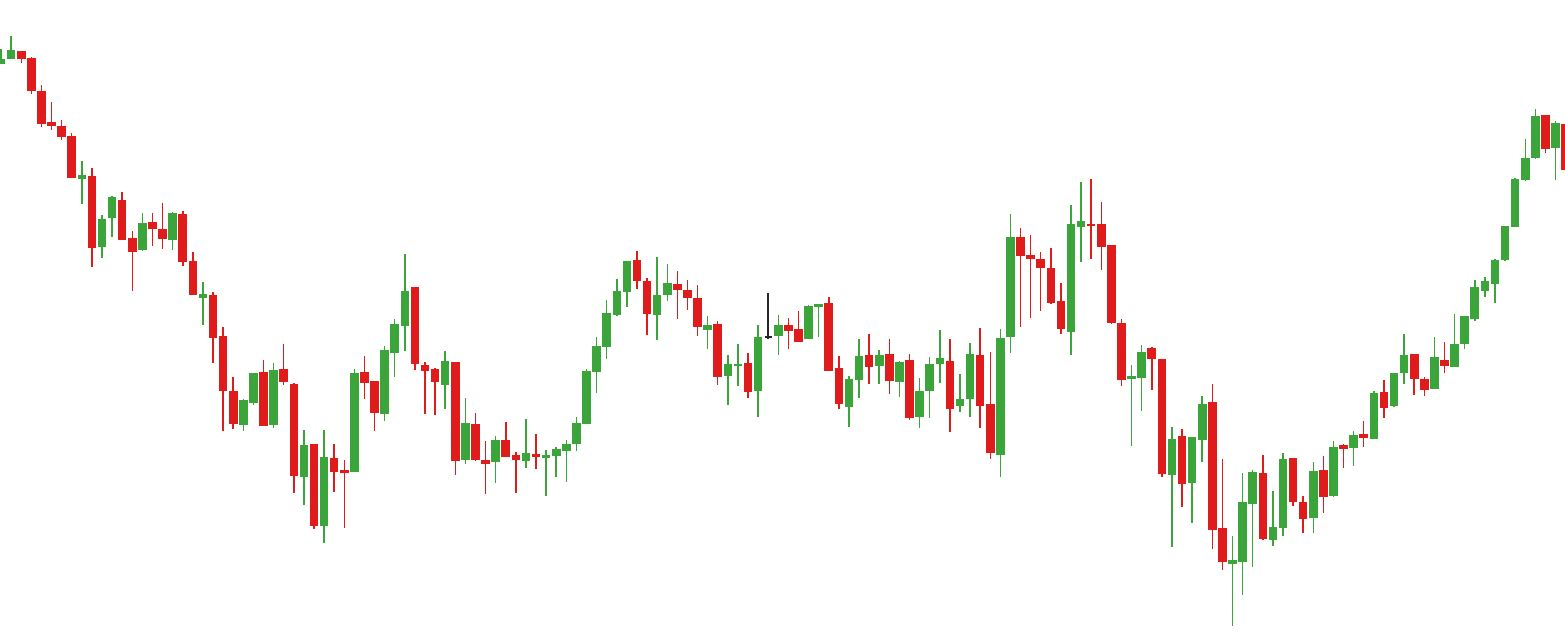buy: (1166, 416, 1249, 630), (750, 320, 855, 433), (943, 343, 1010, 483)
sell: (1006, 172, 1108, 297)
